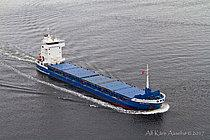Ship: (38, 34, 168, 115)
